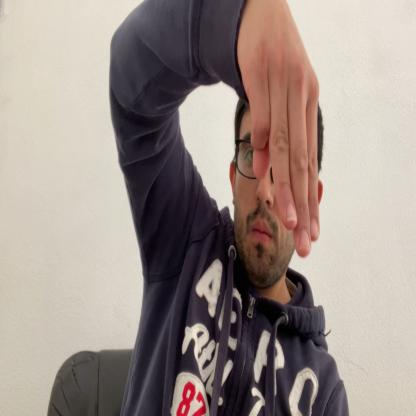M: (248, 3, 320, 258)
